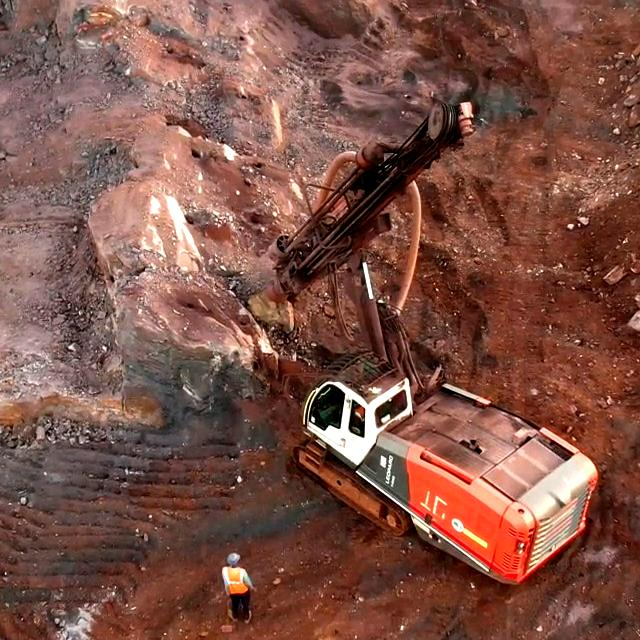Blast rig: (303, 99, 598, 587)
person: (221, 552, 255, 623)
